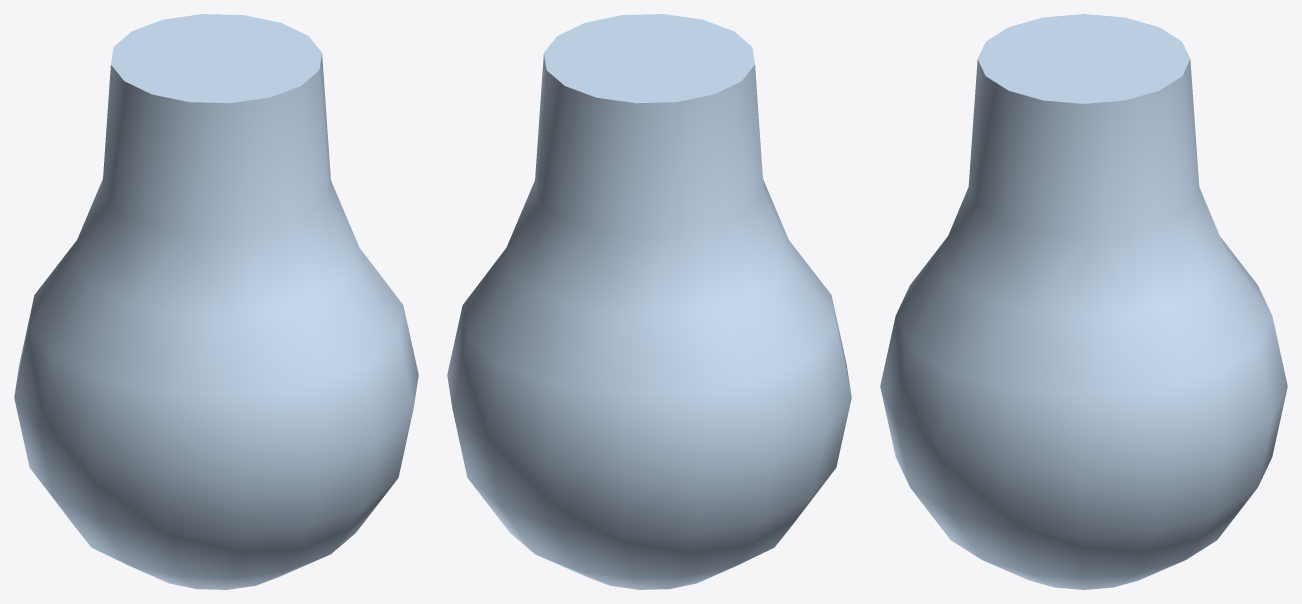
Rendered from bulb.obj.
3 views of the same model, side by side, from view 1: azimuth 30°, elevation 25°; view 2: azimuth 150°, elevation 25°; view 3: azimuth 270°, elevation 25° (orthographic).
Visible parts, largest first — view 1: sphere8; view 2: sphere8; view 3: sphere8.
Part boxes in pixels (bbox=[...]): sphere8: bbox=[14, 14, 418, 589]; sphere8: bbox=[447, 14, 851, 589]; sphere8: bbox=[880, 14, 1287, 589].
Bounding box in the file's own units: 2 × 2.77 × 2.
